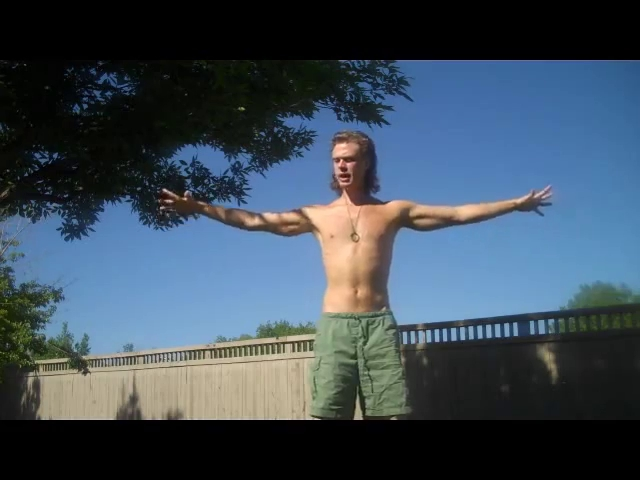person: (156, 130, 553, 419)
